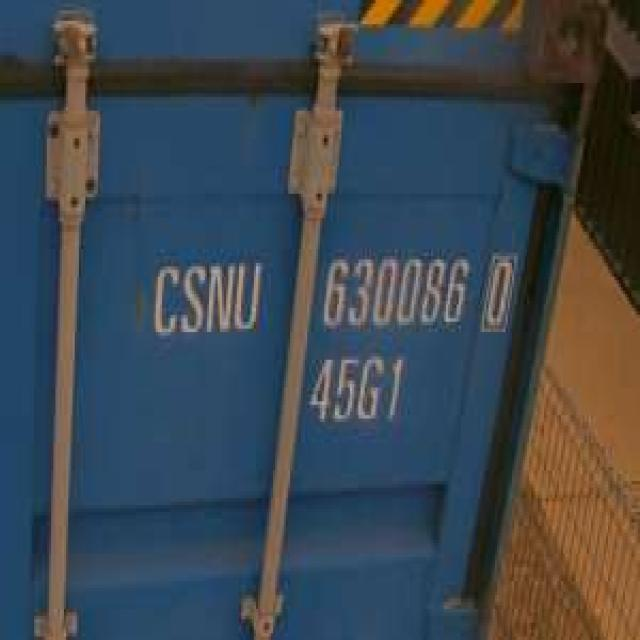dv: (478, 242, 516, 332)
owner: (145, 246, 265, 346)
serial: (316, 246, 469, 332)
size: (305, 342, 408, 429)
